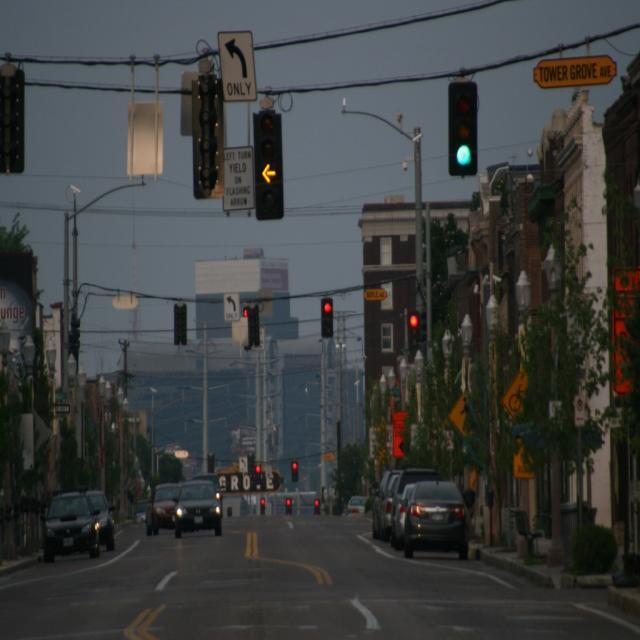traffic light: (254, 112, 286, 222), (449, 80, 479, 176), (320, 293, 335, 341)
